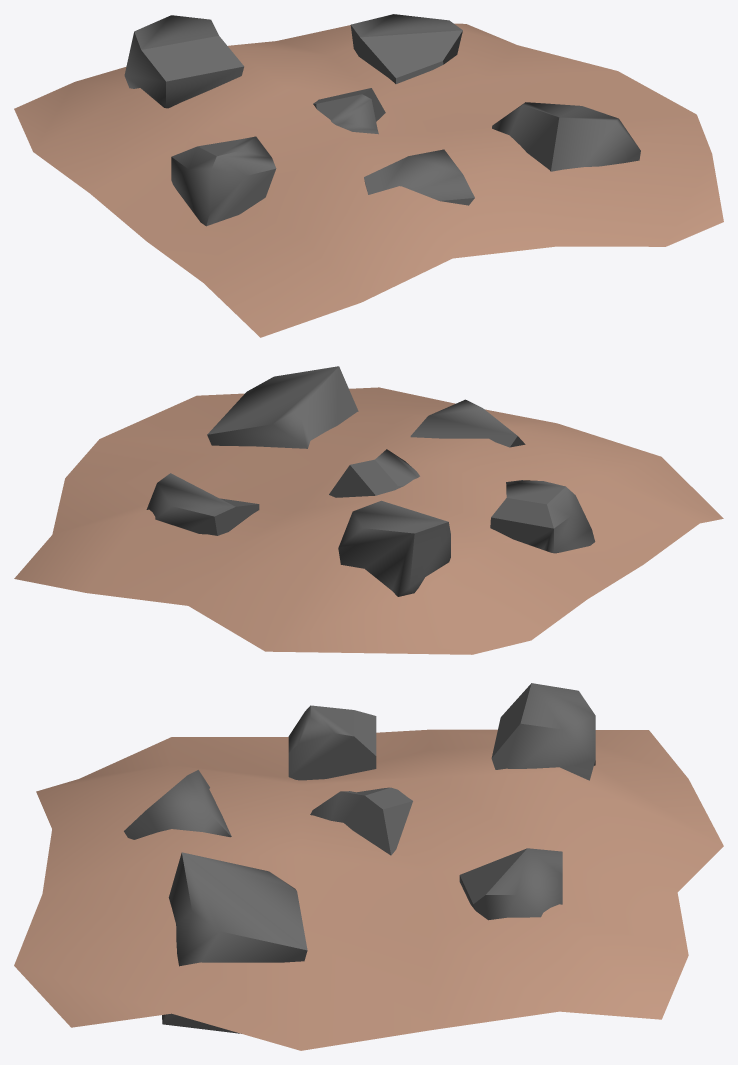
Rendered from Arena&Roca.fbx.
3 renders of one model, top to bottom at view 1: azimuth 30°, elevation 25°; view 2: azimuth 150°, elevation 25°; view 3: azimuth 270°, elevation 25°, orthographic. The views are drawn at different scales.
Visible parts, largest first — view 1: arena, piedra1, piedra, Piedra1, Piedra, piedra2, piedra3; view 2: arena, piedra, piedra1, Piedra1, Piedra, piedra2, piedra3; view 3: arena, piedra, piedra1, Piedra, Piedra1, piedra3, piedra2.
Boxes of the visible parts, x1,y1,x2,y2 form: arena: (14, 23, 723, 337); piedra1: (124, 15, 244, 108); piedra: (492, 102, 640, 171); Piedra1: (171, 136, 276, 226); Piedra: (350, 14, 462, 83); piedra2: (364, 149, 474, 205); piedra3: (313, 88, 385, 134); arena: (14, 387, 723, 654); piedra: (207, 366, 358, 448); piedra1: (338, 500, 450, 596); Piedra1: (490, 480, 595, 553); Piedra: (146, 473, 259, 535); piedra2: (410, 399, 525, 447); piedra3: (329, 449, 419, 497); arena: (14, 729, 723, 1050); piedra: (162, 852, 307, 1033); piedra1: (491, 683, 595, 780); Piedra: (459, 848, 562, 920); Piedra1: (288, 705, 376, 780); piedra3: (310, 787, 412, 855); piedra2: (124, 770, 231, 839).
Bounding box in the file's own units: 1.12 × 0.3084 × 1.1.
